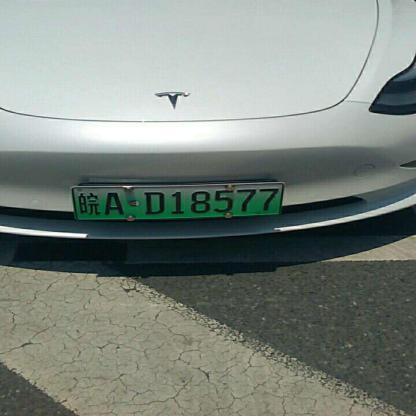lp: (74, 184, 282, 218)
